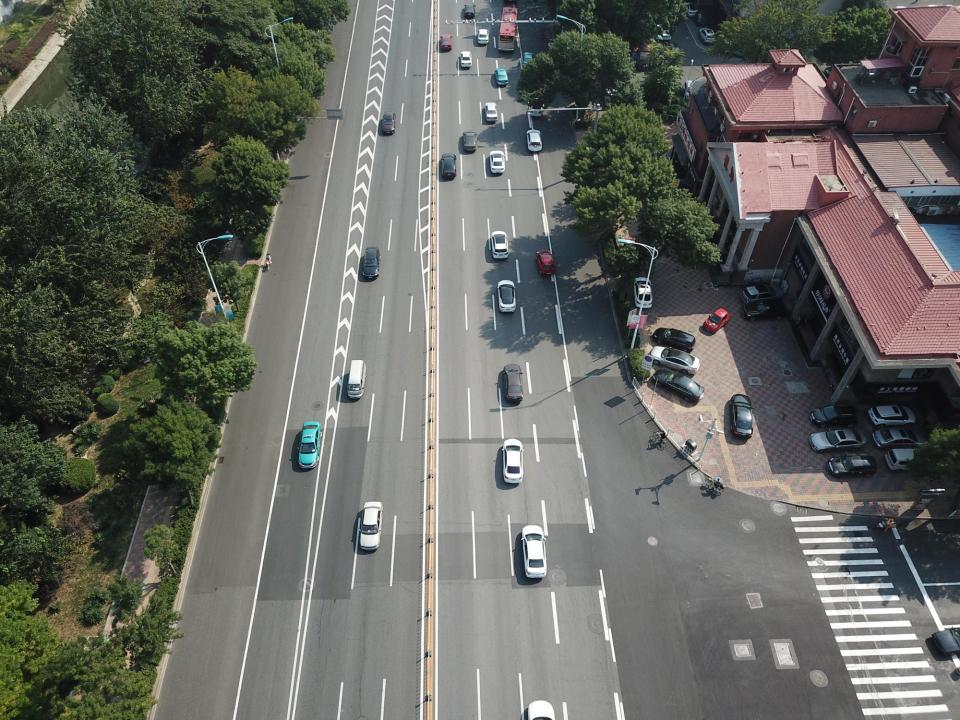bus: (496, 6, 520, 52)
car: (652, 369, 706, 400), (520, 526, 547, 580), (649, 345, 700, 373), (296, 421, 323, 471), (357, 501, 384, 551), (500, 438, 526, 487), (651, 326, 696, 352), (809, 430, 867, 450), (828, 455, 876, 478), (743, 298, 789, 321), (810, 406, 860, 426), (732, 392, 754, 437), (873, 430, 929, 446), (868, 406, 917, 424), (502, 363, 524, 403), (496, 278, 518, 312), (701, 308, 730, 333), (740, 285, 777, 302), (362, 247, 381, 279), (633, 277, 652, 309), (534, 249, 557, 275), (488, 230, 509, 258), (440, 152, 457, 178), (650, 19, 672, 39), (528, 97, 546, 117), (380, 110, 396, 132), (491, 150, 506, 173), (526, 130, 542, 151), (462, 129, 478, 149), (493, 68, 509, 86), (683, 80, 699, 98), (700, 27, 717, 42), (485, 101, 498, 120), (683, 1, 699, 16), (522, 50, 535, 68), (460, 52, 474, 68), (476, 29, 490, 43), (464, 3, 476, 18), (440, 34, 452, 48)
van: (884, 448, 934, 470), (347, 359, 366, 398)
